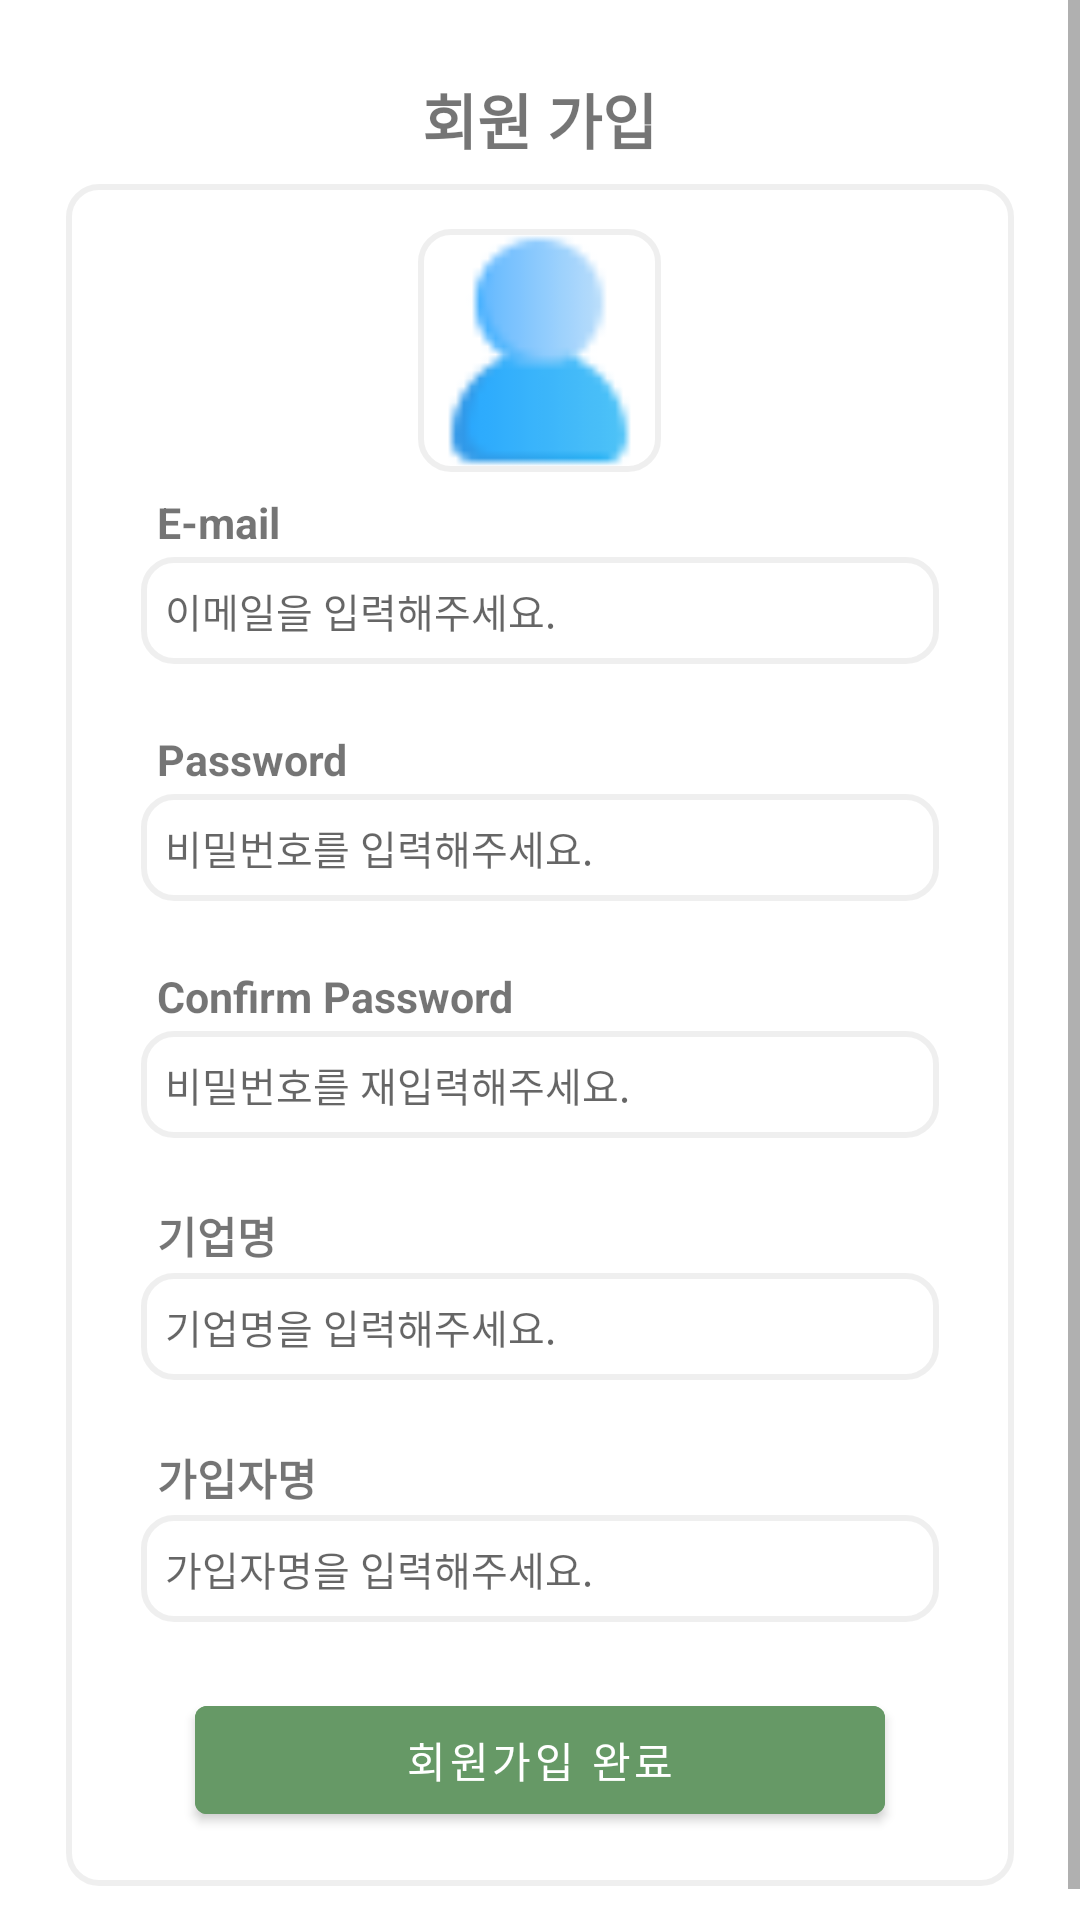

Screen size 1080*1920. Icon name, then its box in pixels as (left=x1, top=y1, right=x2, bottom=y2):
user: (left=449, top=237, right=630, bottom=465)
